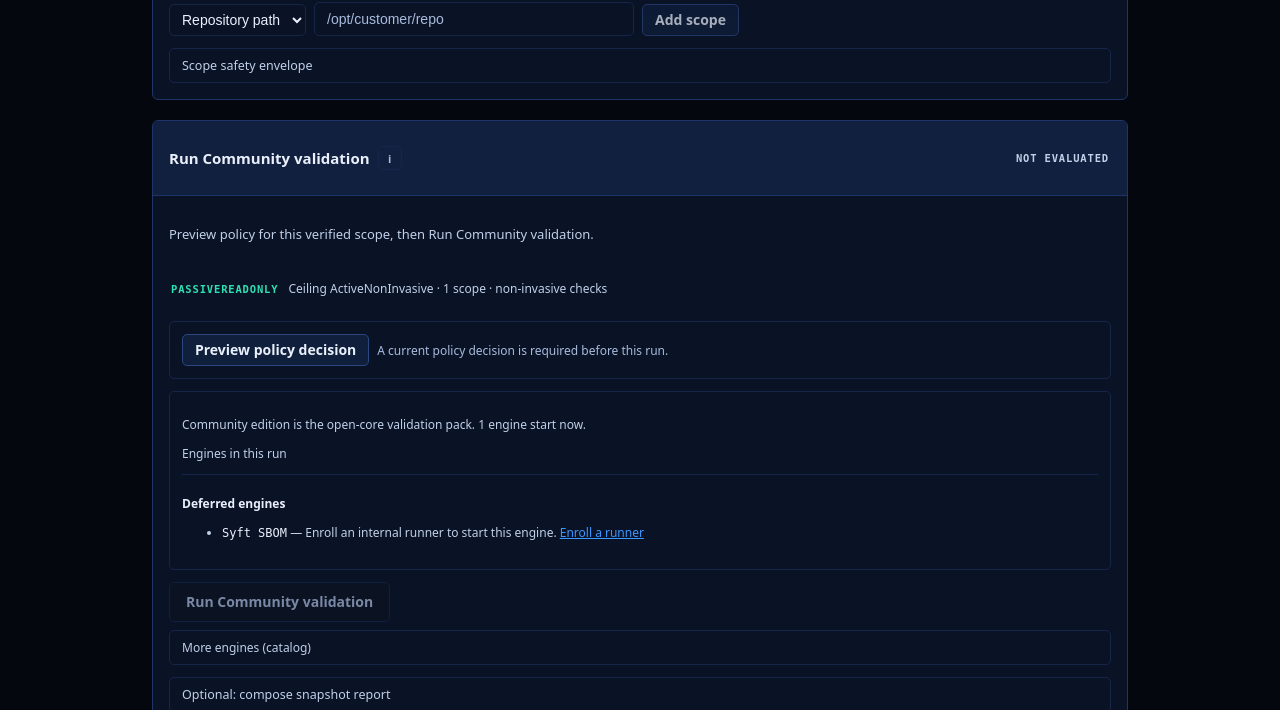
Scenario: ValidationSnapshotFlow engine start count › does not claim 38 engines will start when a first-hour pin queues Gitleaks
(page scrolled)
Expected: the element with test id "community-validation-suite" shows "1 engine start now", [478, 416, 586, 433]
Expected: the element with test id "community-validation-suite" does not show "38 engines start now", [169, 391, 1111, 570]
Click the button "Preview policy decision" at (276, 350), box [182, 334, 369, 366]
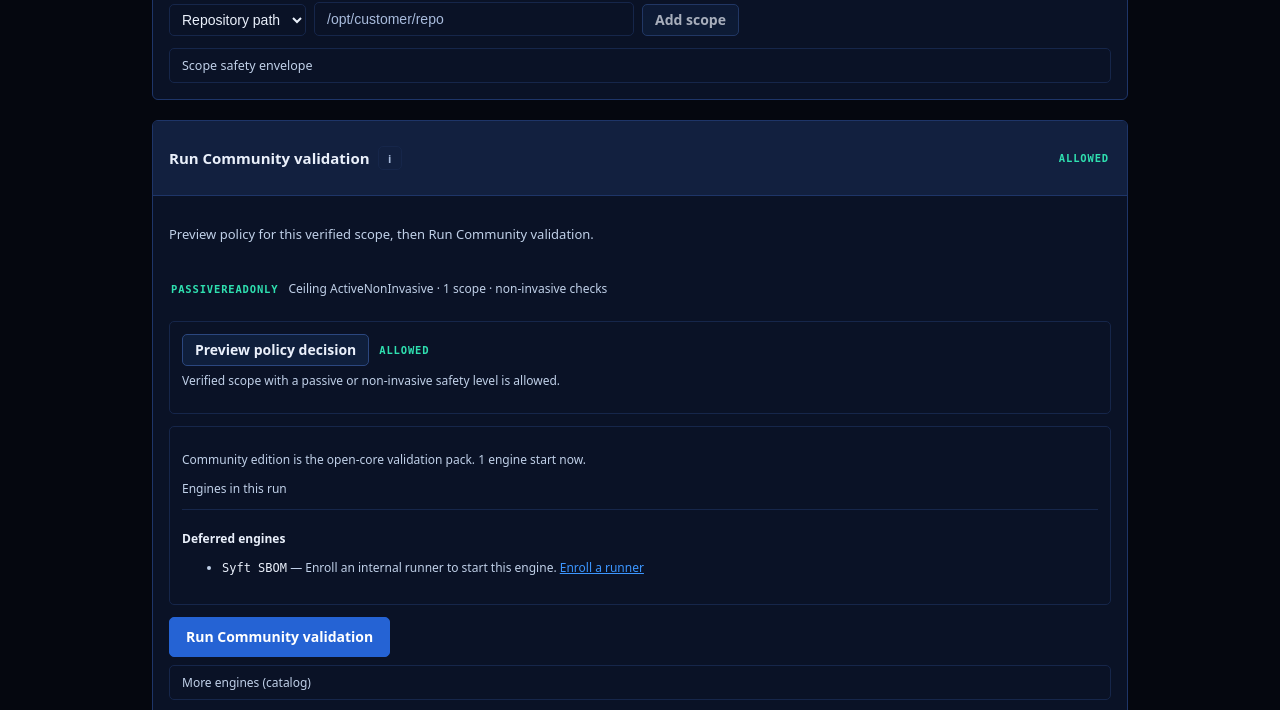
Result: the text "Verified scope with a passive or non-invasive safety level is allowed." is shown at [182, 372, 560, 389]
Click the button with test id "run-community-validation" at (280, 637), box [169, 617, 390, 657]
(page scrolled)
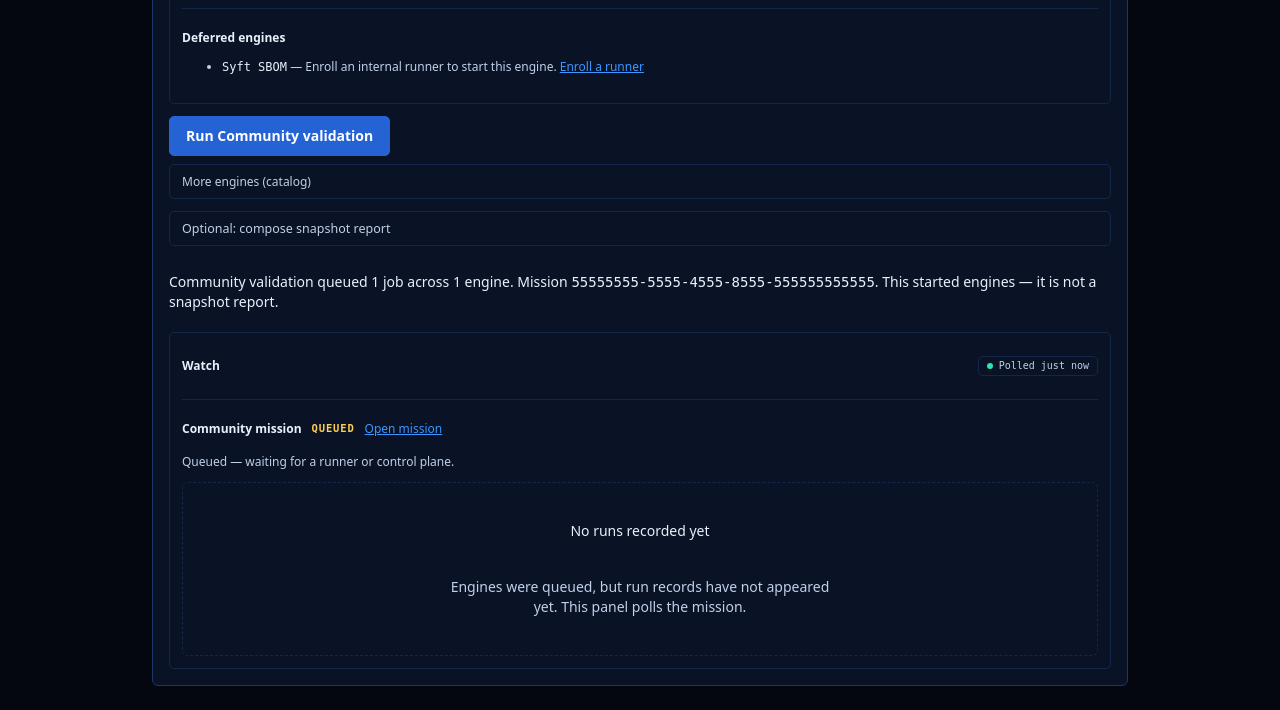
Result: the element with test id "community-validation-started" shows "queued 1 job across 1 engine" at [169, 258, 1111, 669]
Result: the text with test id "community-run-watch" reads "Watch" at [182, 357, 220, 374]
